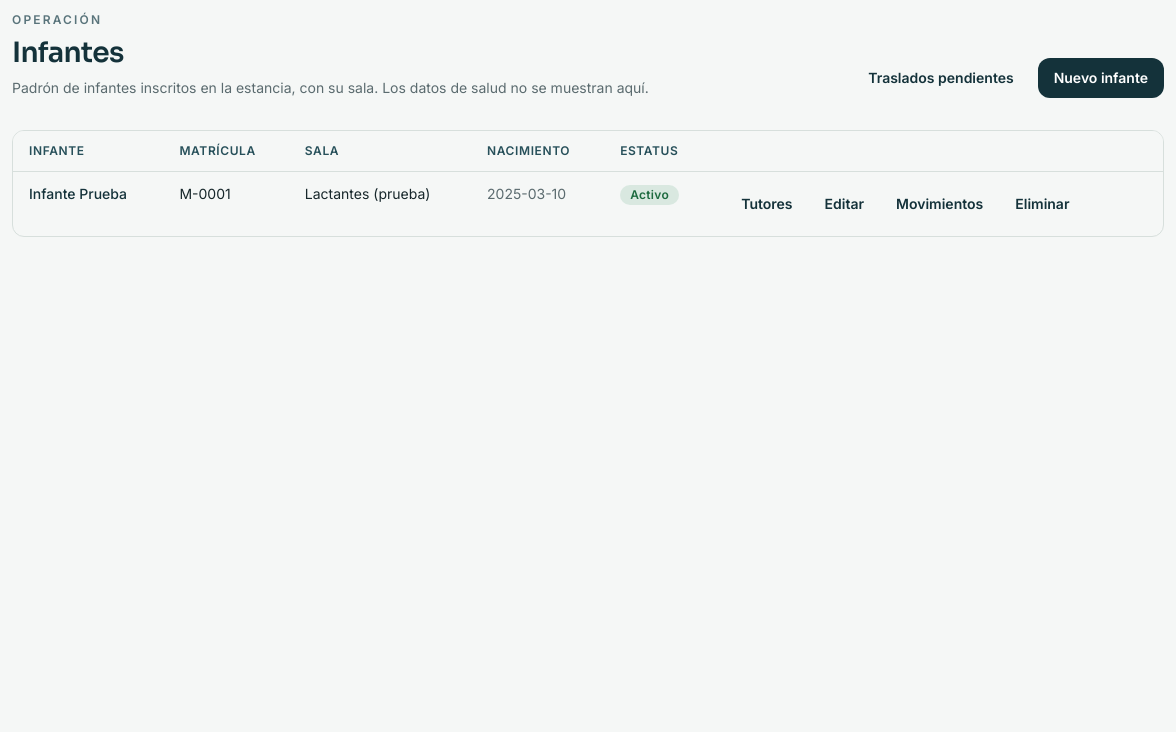
it: movimientos de inscripción (RF-35) › muestra el rechazo del servidor, por ejemplo una sala llena
Click the button with aria-label "Movimientos de Infante Prueba".
click(940, 204)  # box [880, 184, 999, 224]
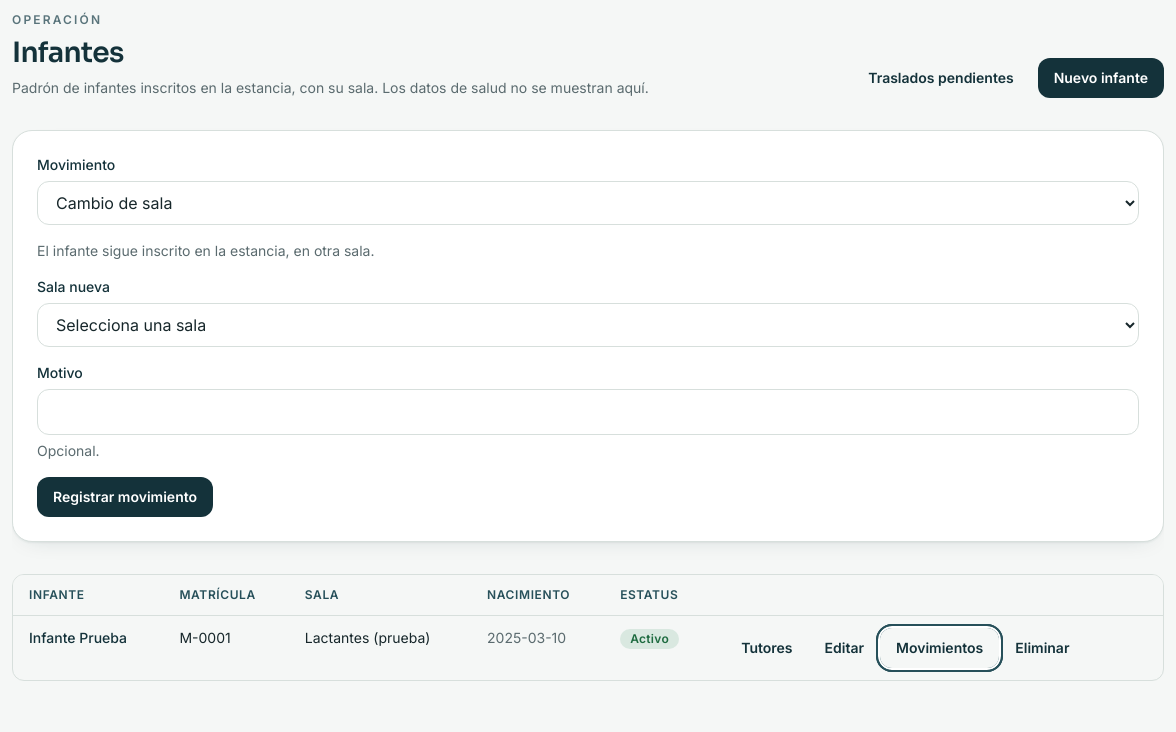
Select "Maternal (prueba)" in the dropdown labelled "Sala nueva" at (588, 325), box [37, 303, 1139, 347]
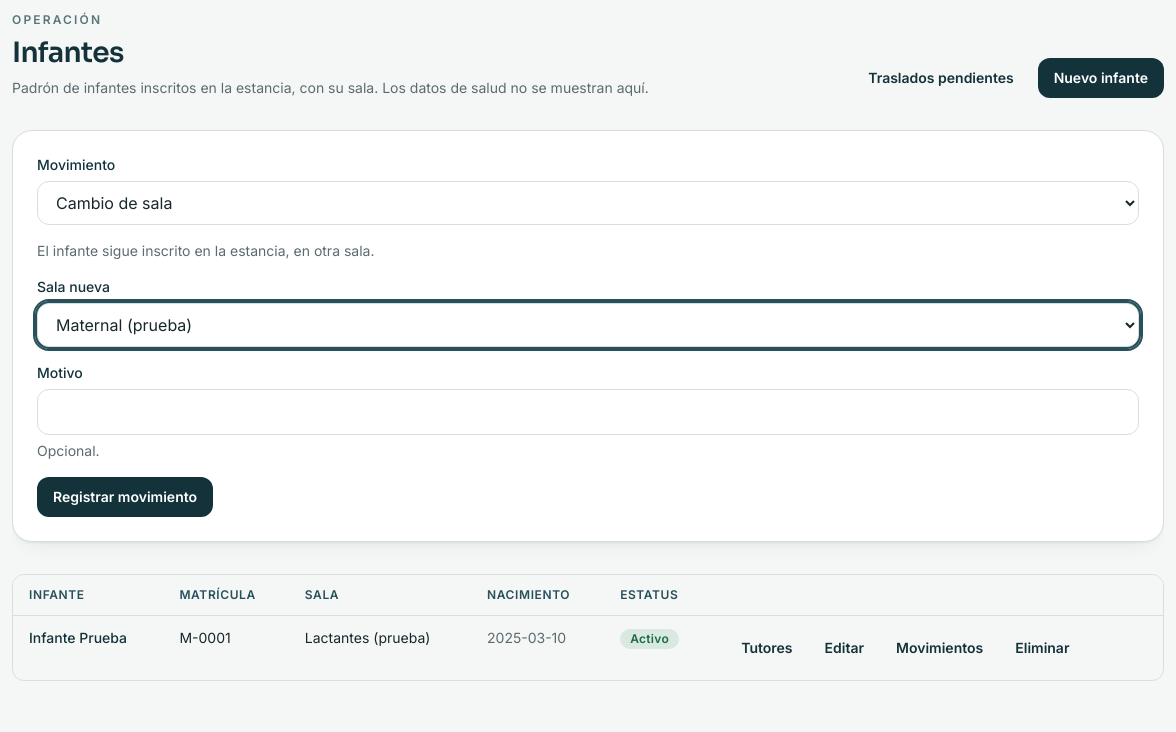
Click the button "Registrar movimiento".
click(125, 497)  # box [37, 477, 213, 517]
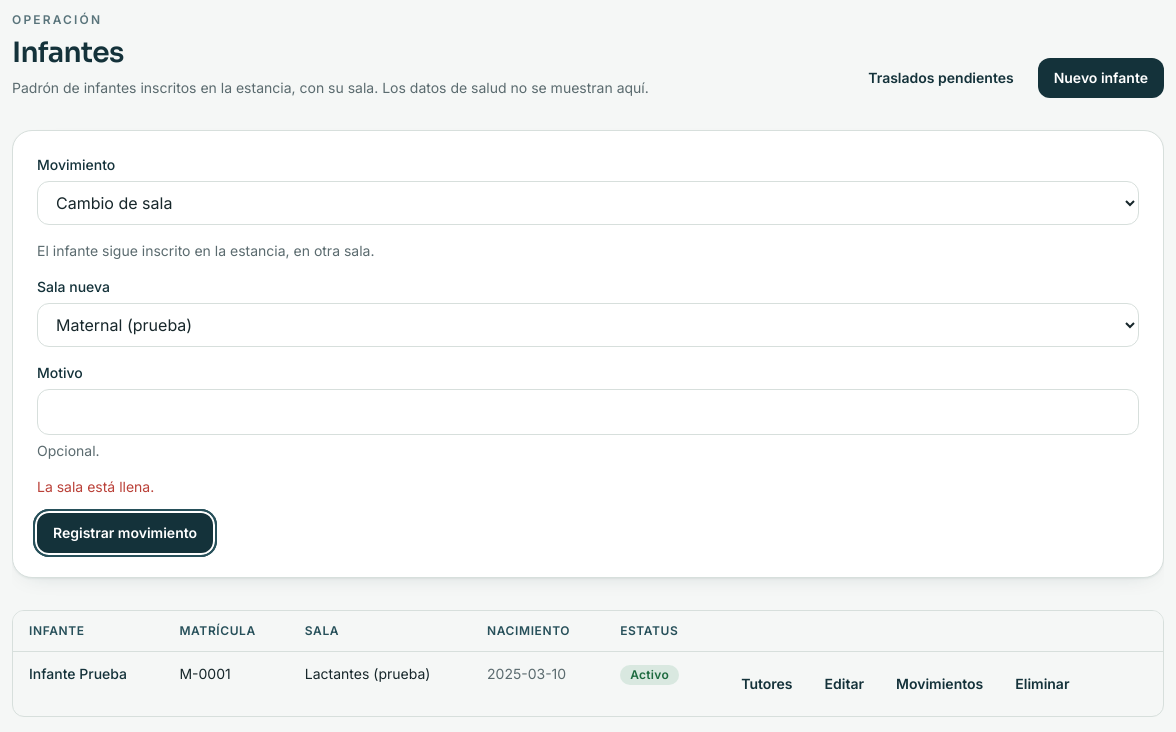
expect the message reads "La sala está llena.": met, box [37, 478, 154, 495]
